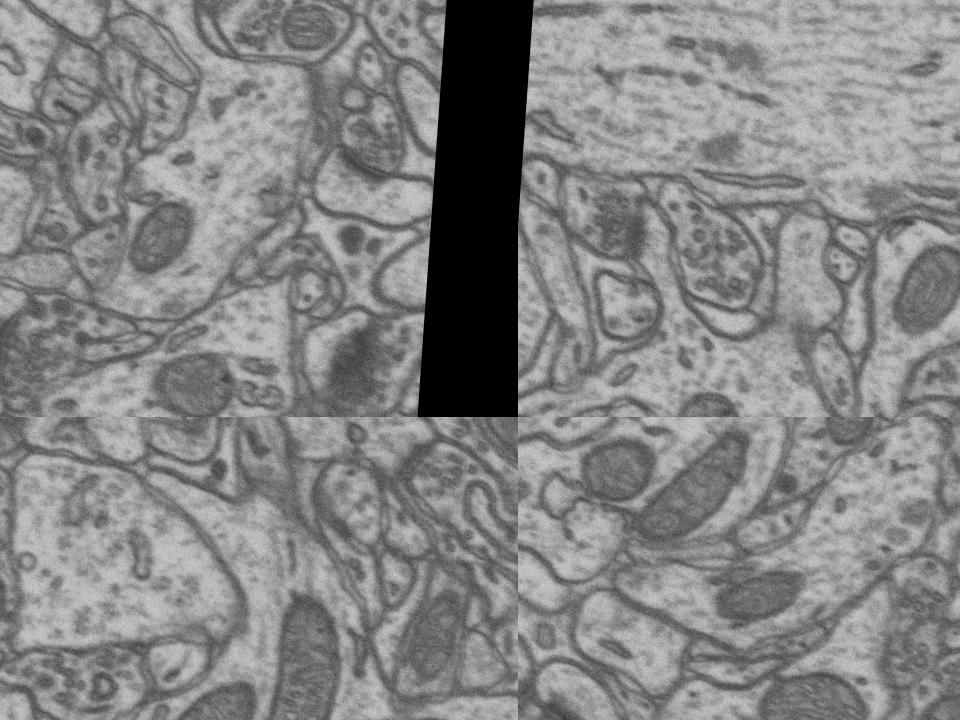mitochondria: (635, 417, 757, 552), (253, 584, 346, 720), (706, 555, 812, 632), (139, 341, 246, 417), (115, 198, 205, 288), (574, 424, 664, 510), (886, 222, 960, 322), (752, 664, 878, 720), (403, 582, 473, 681), (270, 0, 352, 69), (155, 672, 263, 720), (652, 378, 755, 417), (908, 336, 960, 411), (815, 417, 884, 455), (478, 417, 518, 464), (910, 685, 960, 720), (0, 563, 12, 631)
